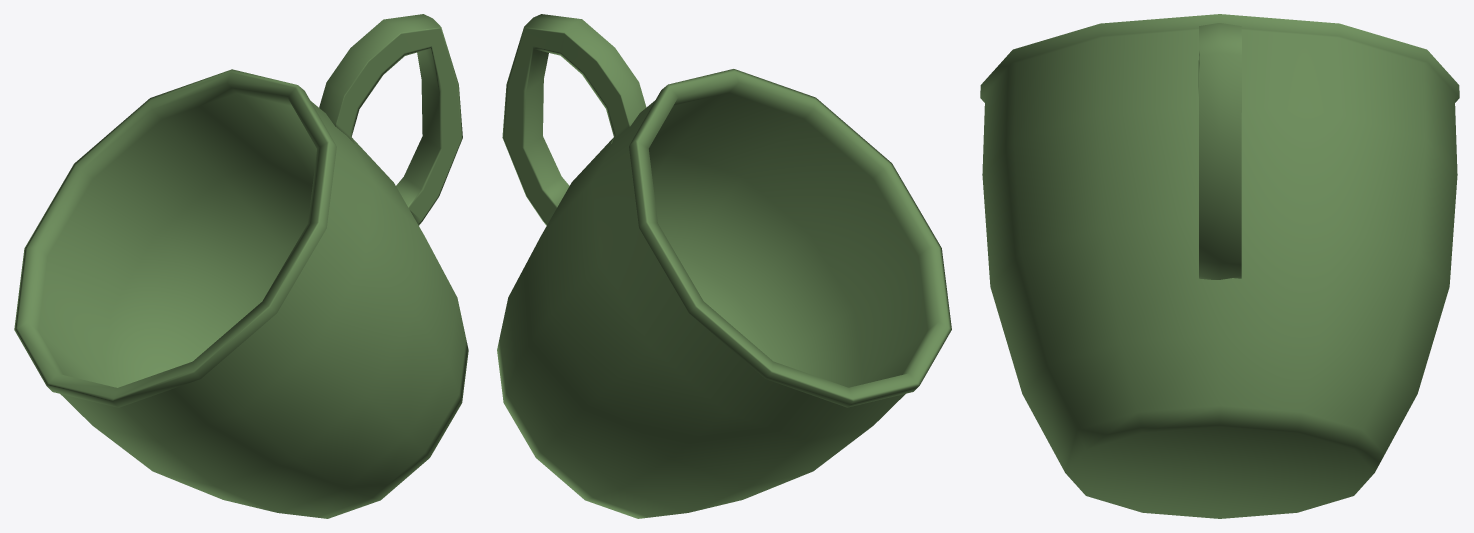
File: Kitchen_set_Kitchen_set_Kitchen_set_Props_grp_Kitchen_set_North_grp_Kitchen_set_NorthWall_grp_Kitchen_set_CupB_1.obj
The picture shows the model from 3 angles, left to right: view 1: azimuth 30°, elevation 25°; view 2: azimuth 150°, elevation 25°; view 3: azimuth 270°, elevation 25°; orthographic projection. The views are drawn at different scales.
Parts seen in each view (by area): view 1: Kitchen_set_Cup1 NCCA_Export; view 2: Kitchen_set_Cup1 NCCA_Export; view 3: Kitchen_set_Cup1 NCCA_Export.
Part boxes in pixels (x1,y1,x2,y2): Kitchen_set_Cup1 NCCA_Export: [14, 14, 468, 518]; Kitchen_set_Cup1 NCCA_Export: [497, 14, 951, 518]; Kitchen_set_Cup1 NCCA_Export: [980, 14, 1459, 518].
Bounding box in the file's own units: 0.9323 × 1 × 0.7768.
